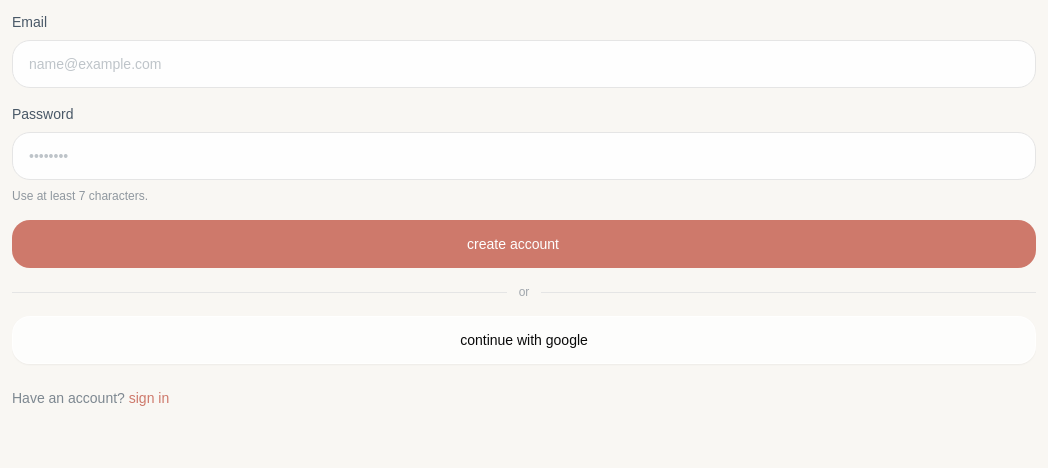
Test: AuthForm › moves a successful registration into sign-in without redirecting
The image size is (1048, 468).
Step 1. Type "test@example.com" into the field labelled "Email" → (524, 64), box [12,40,1036,88]
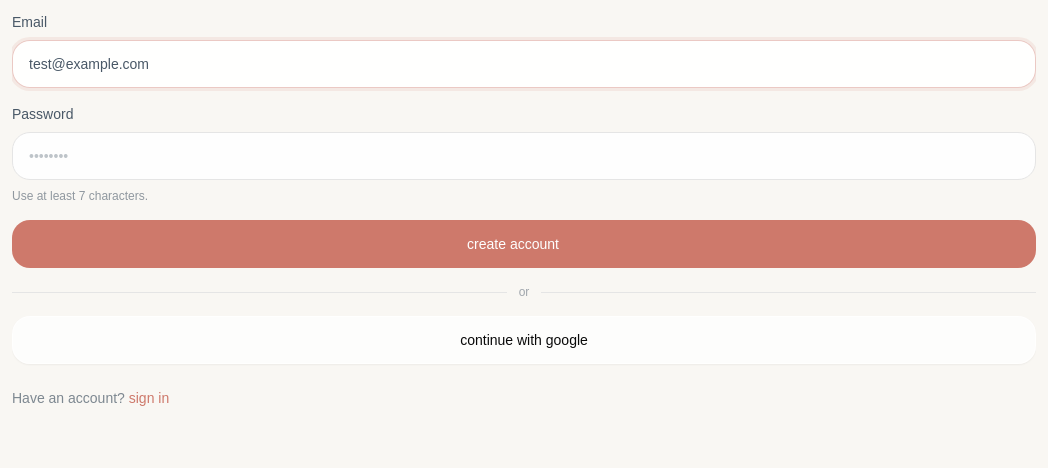
Step 2. Type "password123" into the password field labelled "Password Use at least 7 characters." → (524, 156), box [12,132,1036,180]
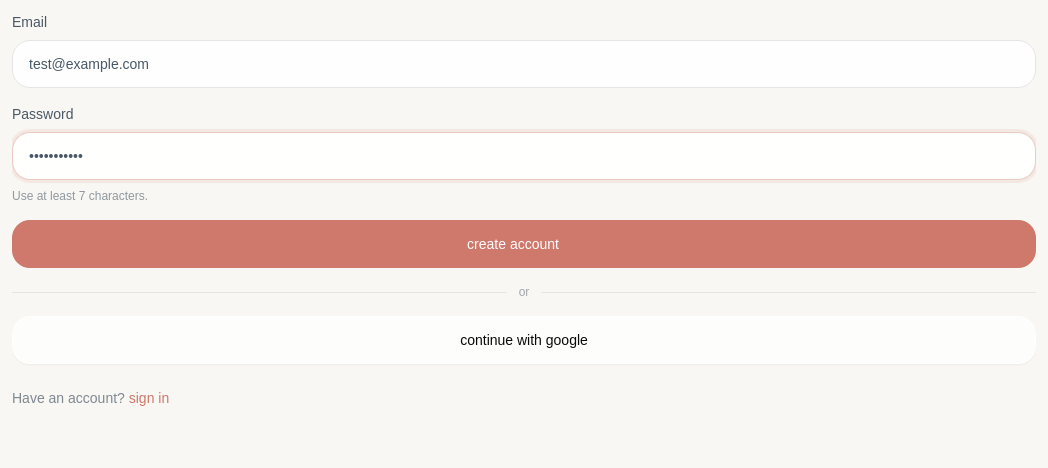
Step 3. Click the button "create account" → (524, 244), box [12,220,1036,268]
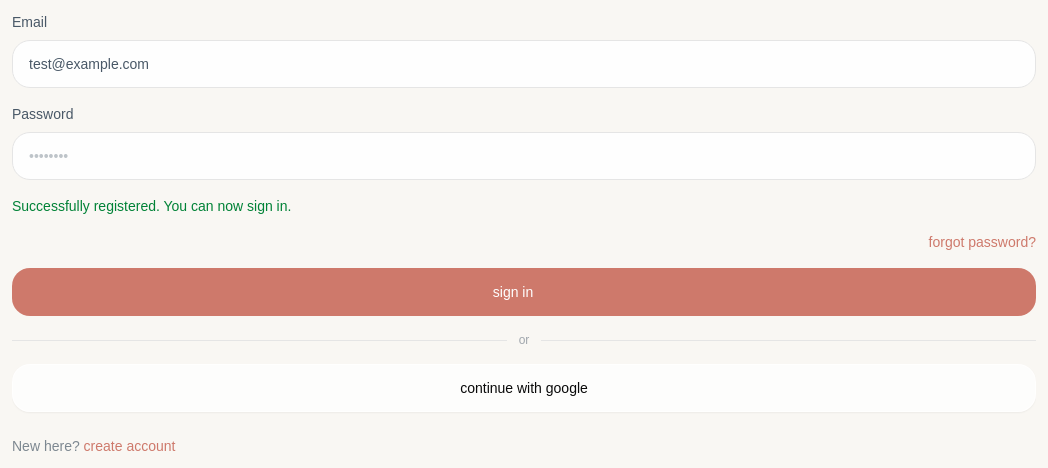
Expected: the text "Successfully registered. You can now sign in." is shown, [12,198,291,214]
Expected: the password field labelled "Password" is empty, [12,132,1036,180]
Expected: the button "sign in" is shown, [12,268,1036,316]
